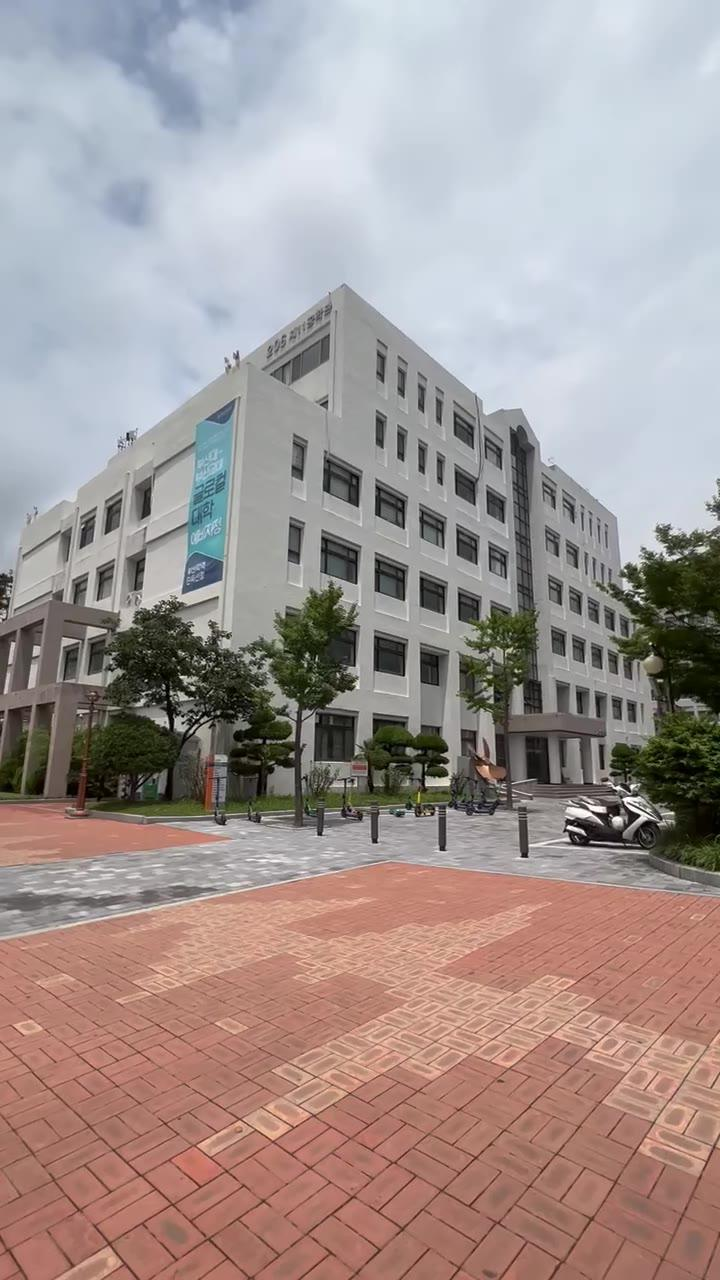building: (250, 298, 604, 592)
